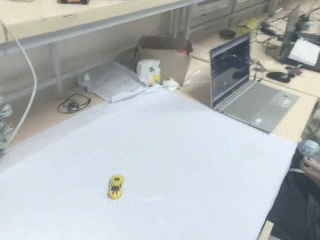mouse: (266, 72, 291, 84)
toy_car: (108, 175, 124, 199)
